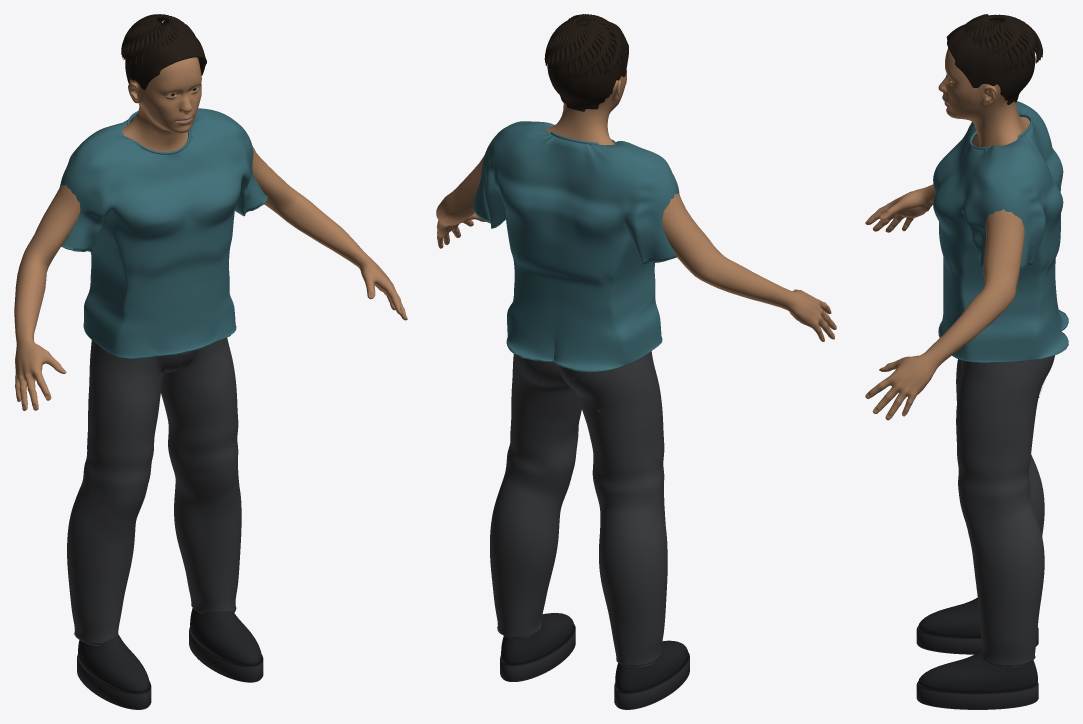
The picture shows the model from 3 angles, left to right: view 1: azimuth 30°, elevation 25°; view 2: azimuth 150°, elevation 25°; view 3: azimuth 270°, elevation 25°; orthographic projection.
Visible parts, largest first — view 1: Charcoal straight trousers, Teal crew neck T-shirt, gen3d_mpfb_body, Sneaker upper 1, Sneaker upper -1, Short wavy hair cap, Rubber outsole 1, Rubber outsole -1; view 2: Charcoal straight trousers, Teal crew neck T-shirt, gen3d_mpfb_body, Short wavy hair cap, Sneaker upper 1, Sneaker upper -1, Rubber outsole -1, Rubber outsole 1; view 3: Charcoal straight trousers, Teal crew neck T-shirt, gen3d_mpfb_body, Short wavy hair cap, Sneaker upper 1, Rubber outsole 1, Sneaker upper -1, Rubber outsole -1.
Part boxes in pixels (x1,y1,x2,y2): Charcoal straight trousers: (67, 337, 241, 644); Teal crew neck T-shirt: (60, 108, 265, 358); gen3d_mpfb_body: (14, 57, 407, 410); Sneaker upper 1: (190, 608, 261, 665); Sneaker upper -1: (78, 634, 149, 692); Short wavy hair cap: (125, 23, 206, 89); Rubber outsole 1: (189, 627, 263, 682); Rubber outsole -1: (77, 654, 151, 709); Charcoal straight trousers: (490, 351, 667, 666); Teal crew neck T-shirt: (473, 121, 679, 371); gen3d_mpfb_body: (436, 70, 836, 341); Short wavy hair cap: (547, 19, 628, 111); Sneaker upper 1: (501, 613, 574, 664); Sneaker upper -1: (615, 640, 688, 692); Rubber outsole -1: (614, 652, 689, 709); Rubber outsole 1: (500, 624, 575, 681); Charcoal straight trousers: (956, 355, 1054, 666); Teal crew neck T-shirt: (933, 101, 1067, 362); gen3d_mpfb_body: (865, 48, 1030, 420); Short wavy hair cap: (946, 20, 1034, 104); Sneaker upper 1: (918, 650, 1037, 692); Rubber outsole 1: (916, 681, 1038, 709); Sneaker upper -1: (918, 597, 981, 636); Rubber outsole -1: (916, 626, 1038, 654).
Size of the model in its own units: 1.13 by 1.82 by 0.5131.
